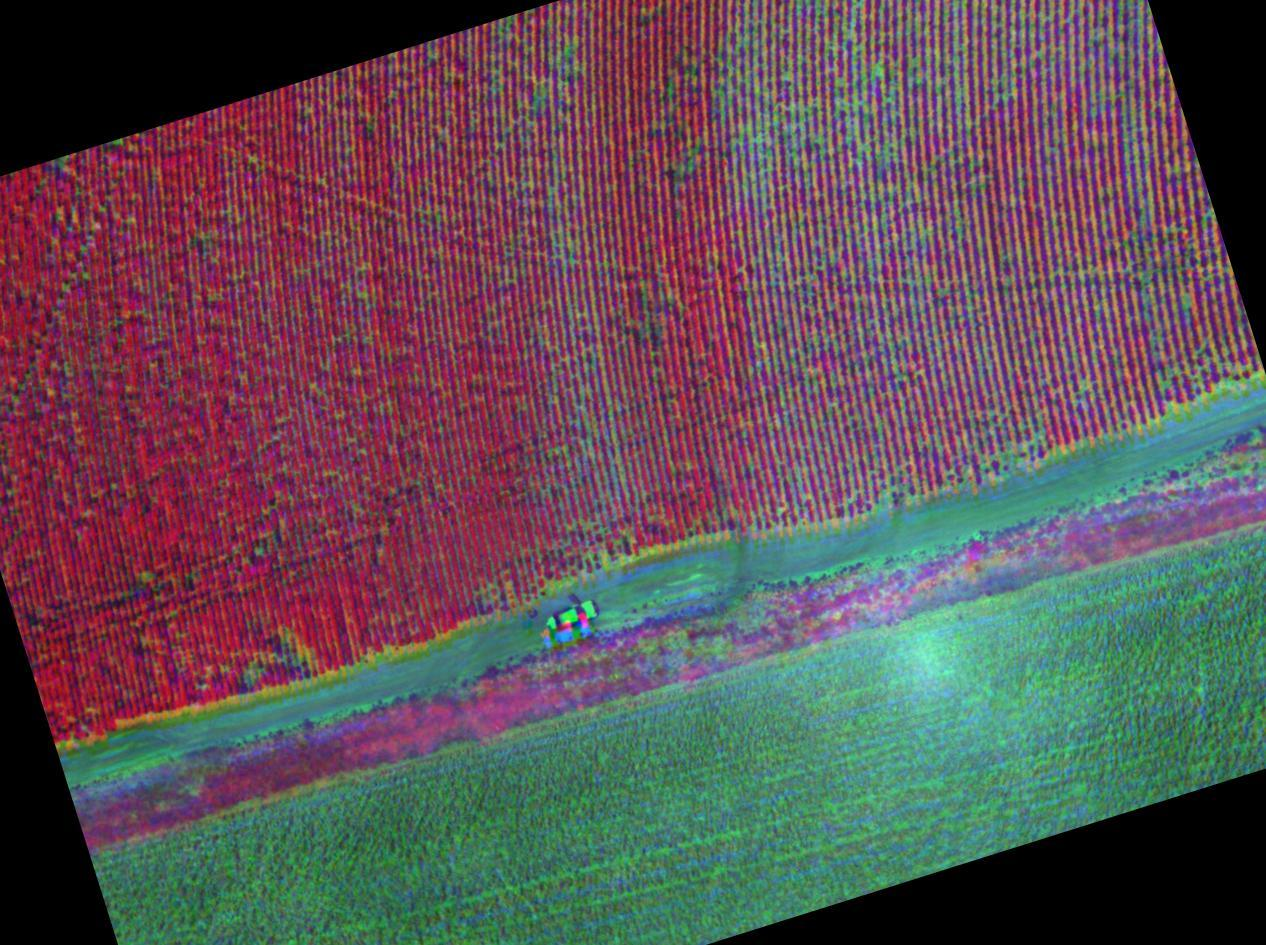dc: (881, 188, 982, 311), (838, 28, 945, 141), (1033, 33, 1131, 145), (738, 143, 841, 244), (723, 25, 806, 133)
